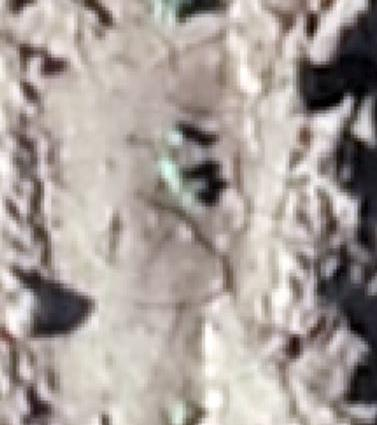cotton: (163, 163, 183, 188), (157, 1, 179, 22), (185, 189, 198, 207), (172, 133, 185, 143)
